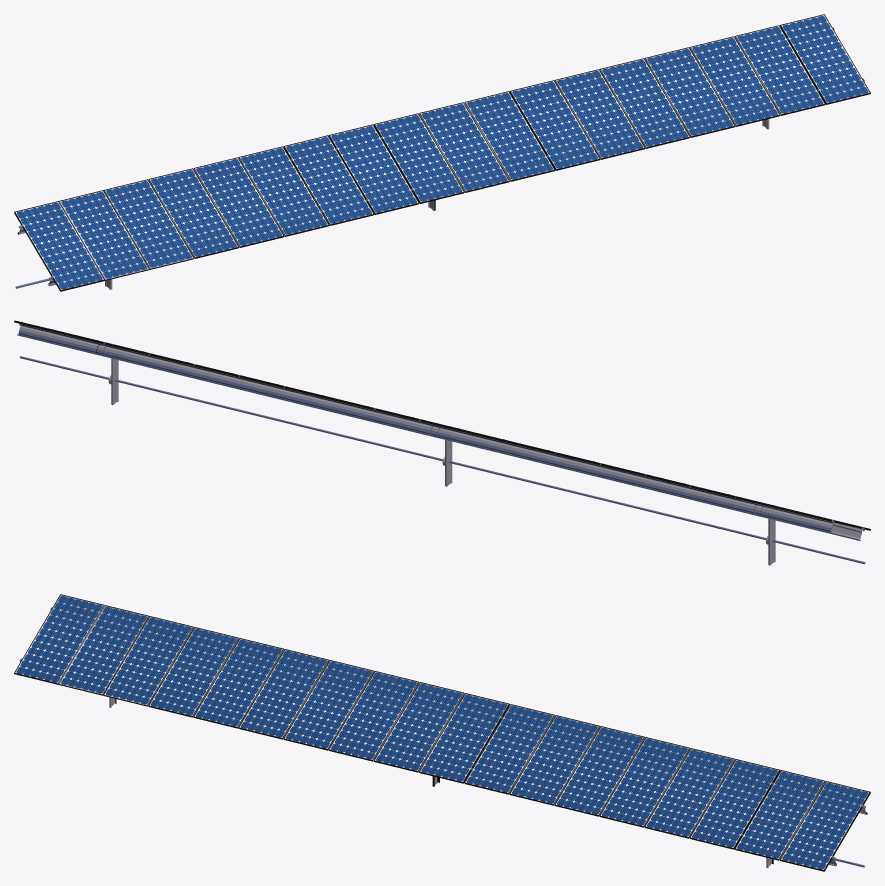
Rendered from Panel.glb.
3 views of the same model, one above another, from view 1: azimuth 30°, elevation 25°; view 2: azimuth 150°, elevation 25°; view 3: azimuth 330°, elevation 25° (orthographic).
Parts seen in each view (by area): view 1: Cylinder.001; view 2: Cylinder.001; view 3: Cylinder.001.
Boxes of the visible parts, <box> form: Cylinder.001: <box>14,14,870,291</box>; Cylinder.001: <box>14,320,870,565</box>; Cylinder.001: <box>14,594,870,871</box>.
Bounding box in the file's own units: 31.92 × 2.83 × 3.07.
Materials: 22 (20 with a texture image).
